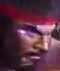ryu: (9, 11, 59, 70)
